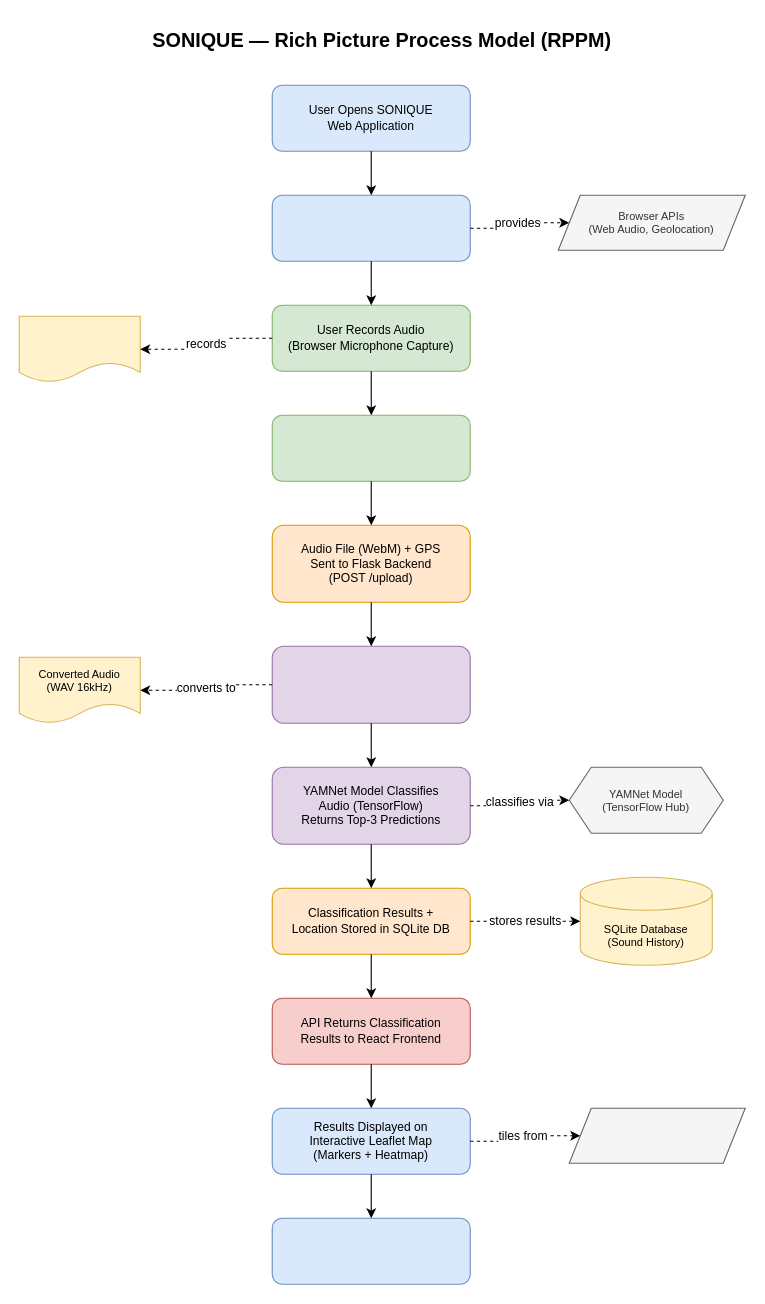
The diagram is 765 pixels wide and 1304 high, and some of its shapes have lost their labels. The centre of each missing label's shape, as x and y in pixels:
Audio File (WebM): point (79, 348)
Backend Converts WebM → WAV (16kHz, Mono) using ffmpeg: point (370, 684)
Frontend Captures GPS Coordinates: point (370, 447)
OpenStreetMap (Tile Server): point (656, 1135)
User Browses Sound History & Filters Results: point (370, 1250)
User Grants Microphone & Location Permissions: point (370, 227)
